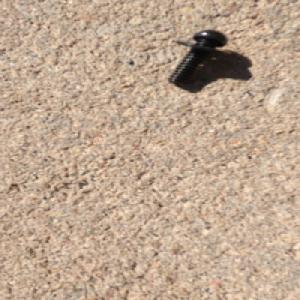BoltWasher: (166, 27, 233, 85)
